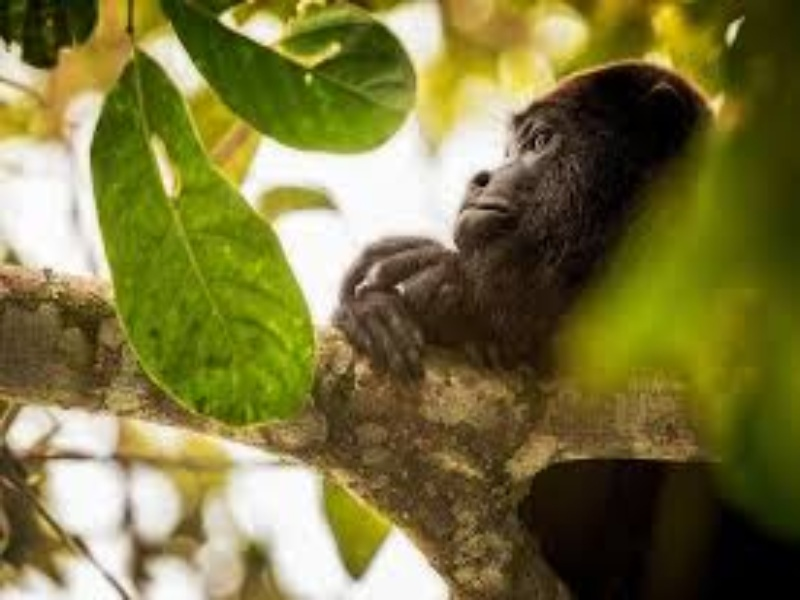monkey: (319, 40, 784, 586)
